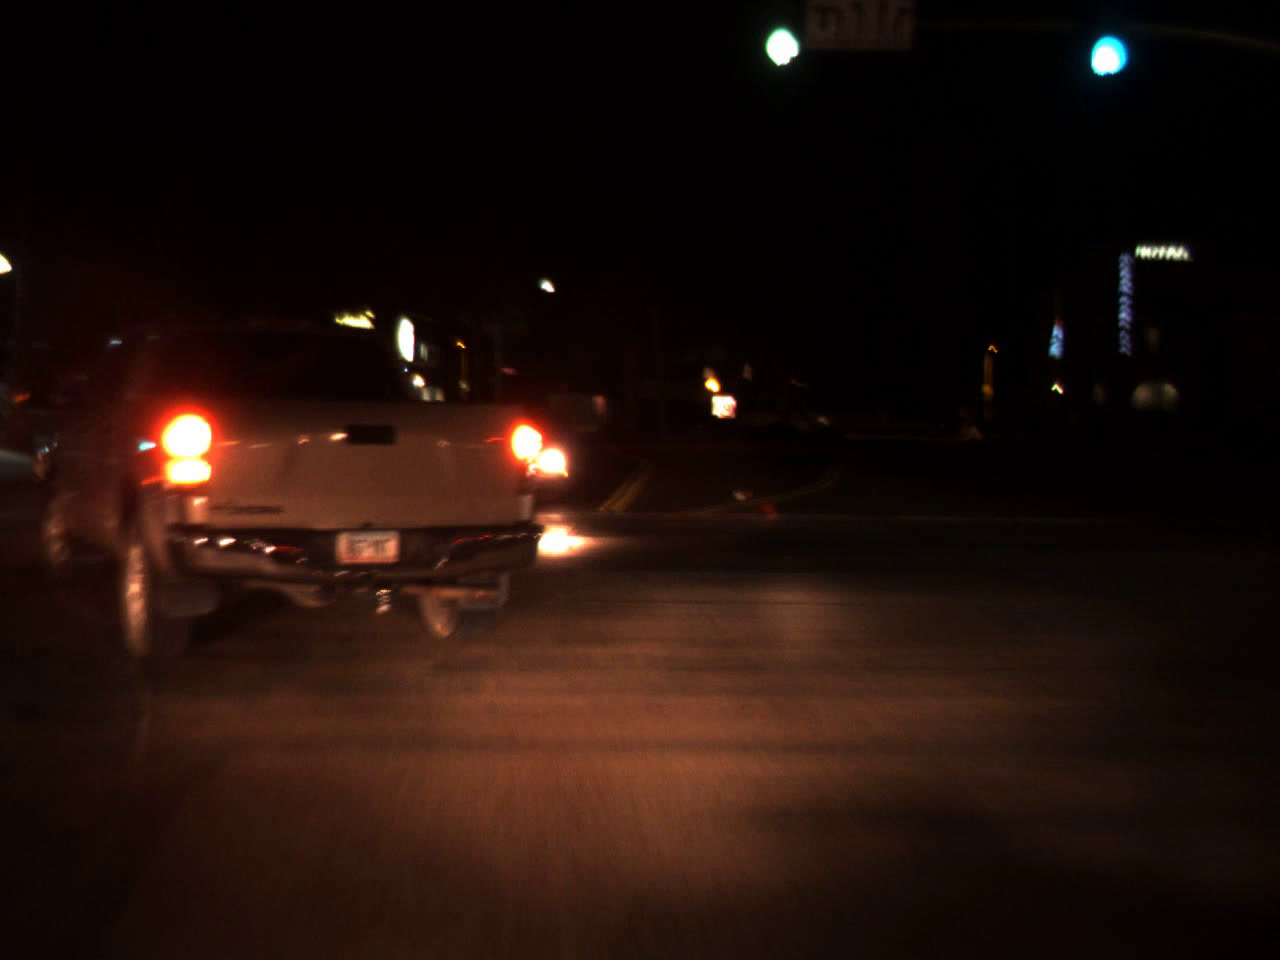go: (750, 0, 805, 79), (1077, 3, 1127, 87)
